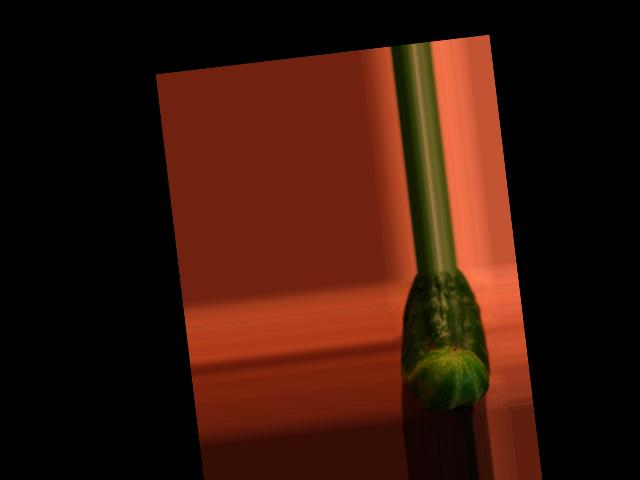cucumber: (390, 265, 494, 414)
